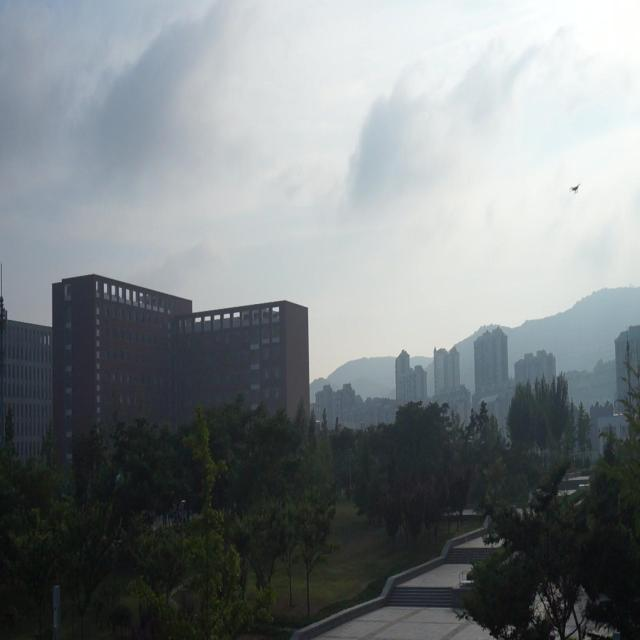drone: (568, 181, 582, 195)
